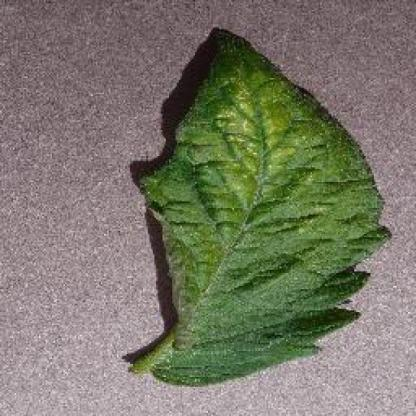Tomato_Spider_Mites: (142, 42, 390, 384)
